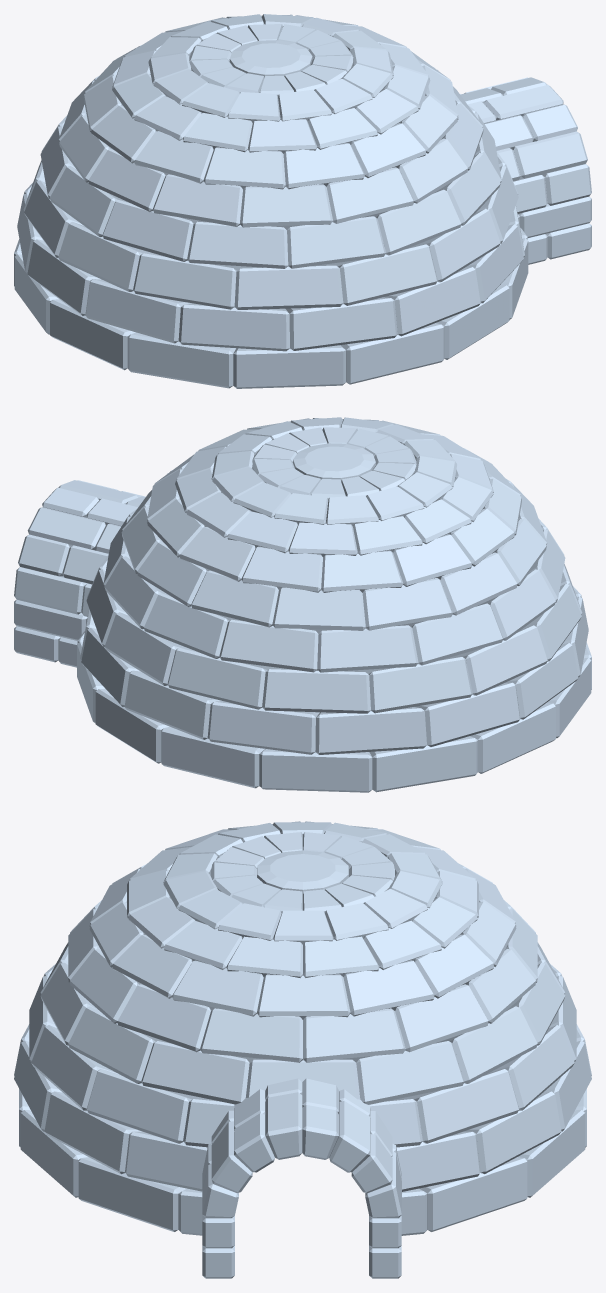
File: Igloo.glb
3 renders of one model, top to bottom at view 1: azimuth 30°, elevation 25°; view 2: azimuth 150°, elevation 25°; view 3: azimuth 270°, elevation 25°, orthographic. The views are drawn at different scales.
Parts seen in each view (by area): view 1: Igloo.001, Igloo.002; view 2: Igloo.001, Igloo.002; view 3: Igloo.001, Igloo.002.
Boxes of the visible parts, left/top/right/bottom form: Igloo.001: left=14, top=14, right=528, bottom=388; Igloo.002: left=460, top=77, right=591, bottom=264; Igloo.001: left=77, top=417, right=591, bottom=792; Igloo.002: left=14, top=480, right=145, bottom=667; Igloo.001: left=14, top=821, right=591, bottom=1235; Igloo.002: left=202, top=1078, right=401, bottom=1278.
Size of the model in its own units: 18.37 by 8.06 by 16.29.
